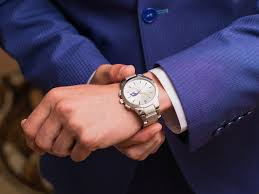clock: (123, 77, 156, 108)
